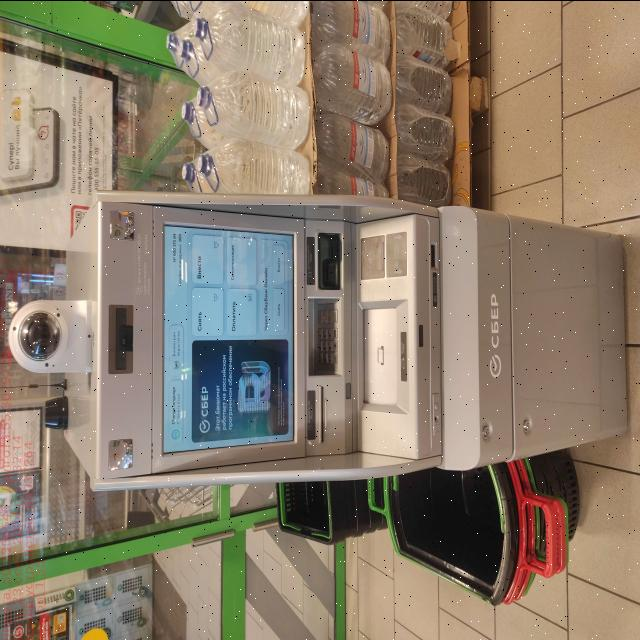bank: (51, 188, 632, 490)
